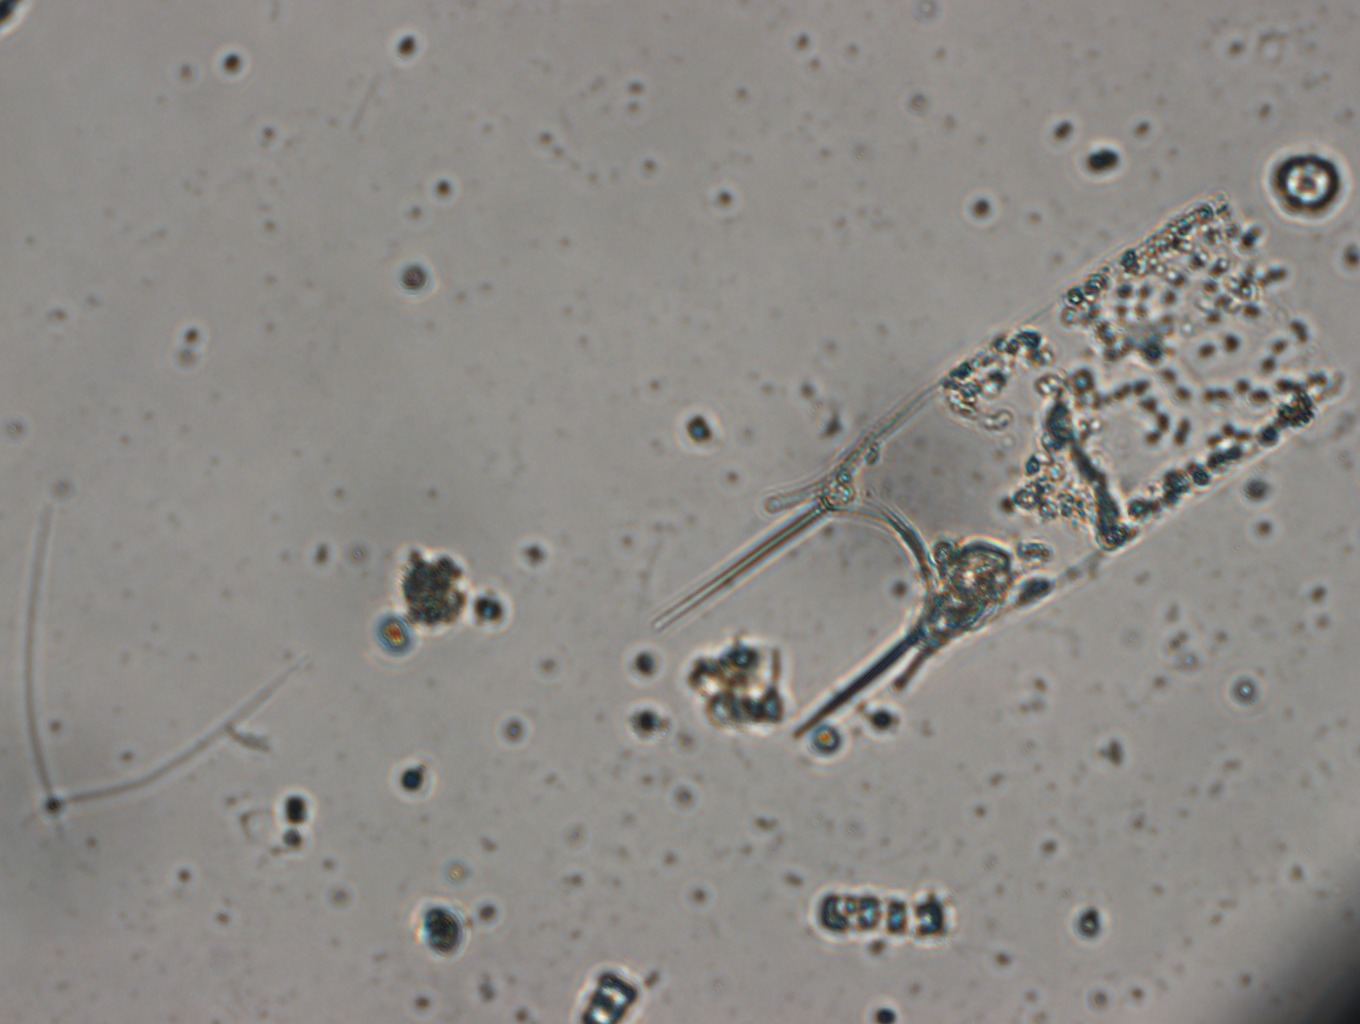biddulphia: (657, 196, 1342, 733)
